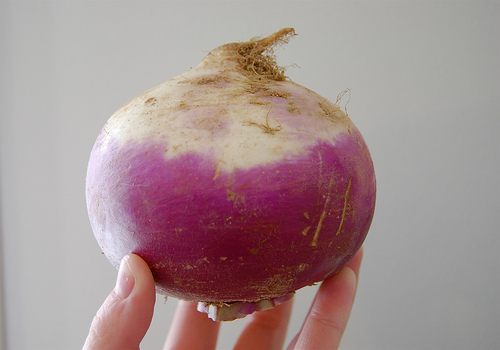turnip: (84, 26, 378, 322)
